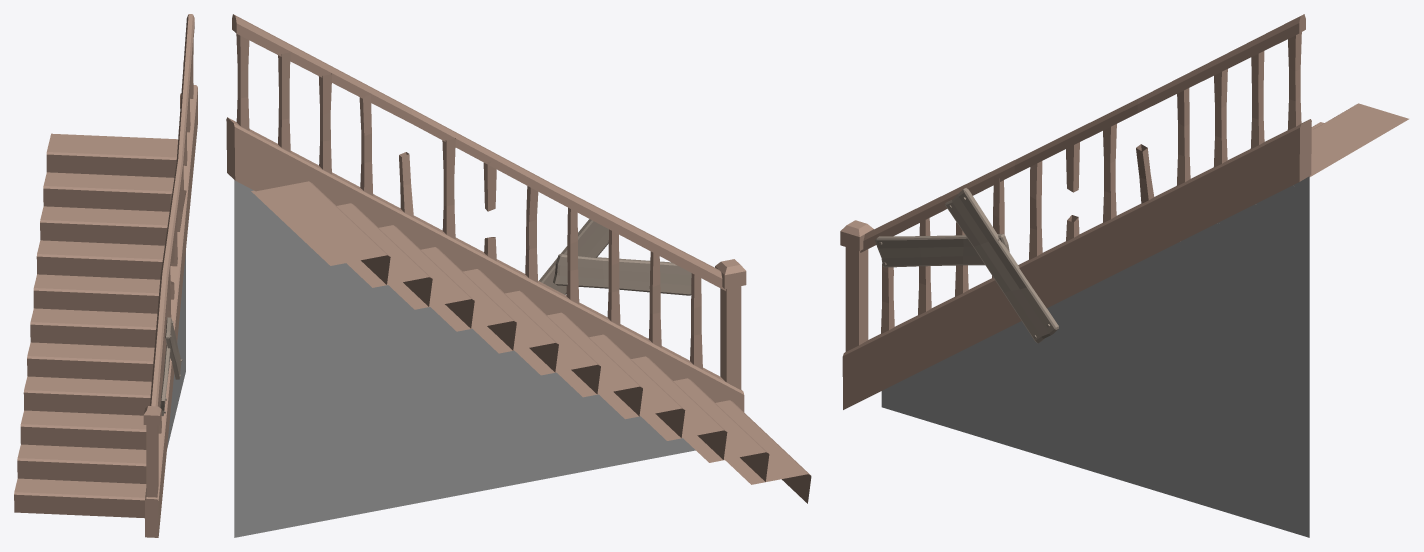
File: Stairs.fbx
3 views of the same model, side by side, from view 1: azimuth 30°, elevation 25°; view 2: azimuth 150°, elevation 25°; view 3: azimuth 270°, elevation 25° (orthographic). The views are drawn at different scales.
Parts seen in each view (by area): view 1: Stairs; view 2: Stairs; view 3: Stairs.
Part boxes in pixels (box(x1,y1,x2,y2)): Stairs: box(14, 14, 197, 537); Stairs: box(226, 14, 811, 537); Stairs: box(840, 14, 1408, 537).
Bounding box in the file's own units: 456 × 538 × 523.
